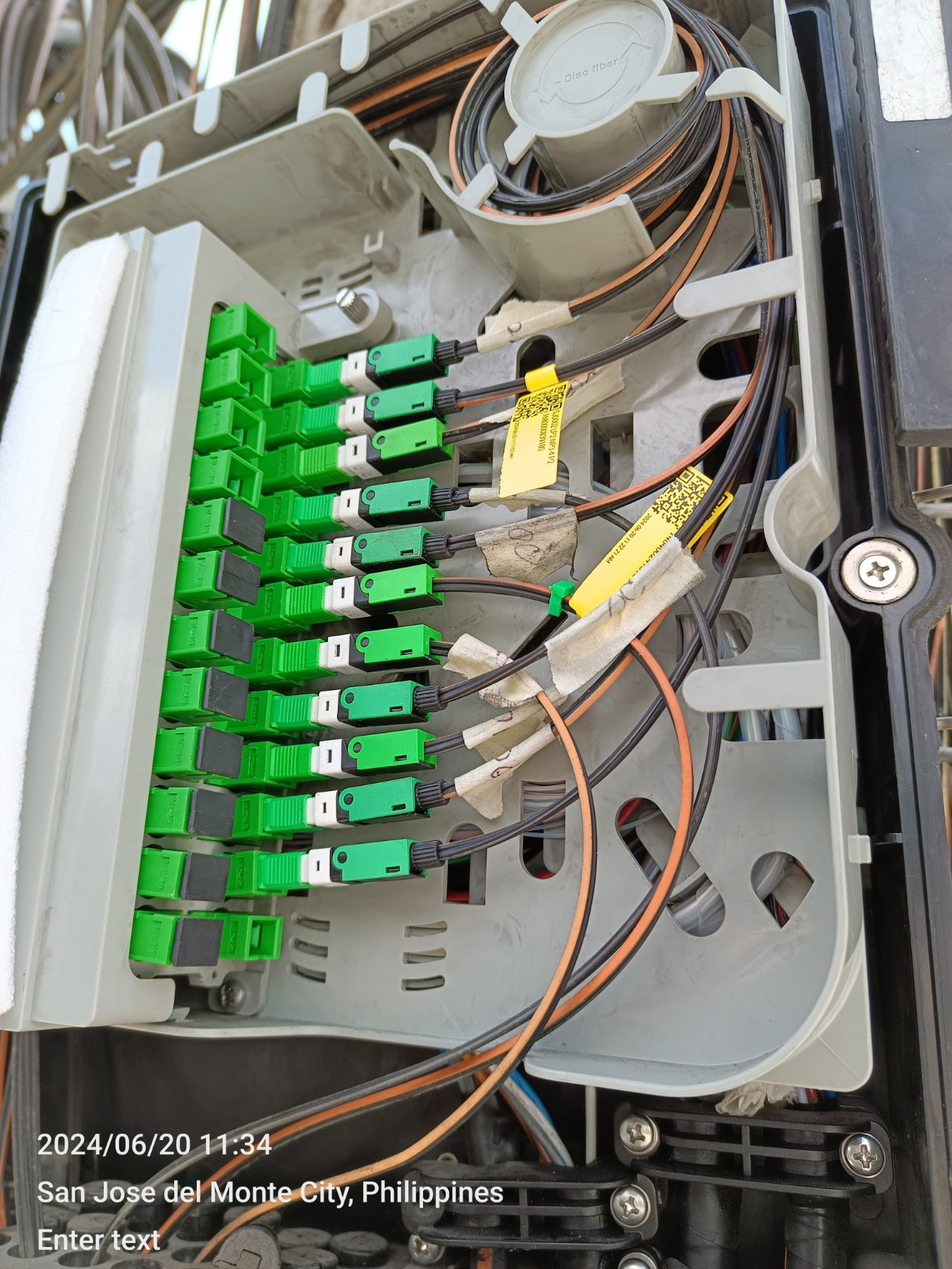no dust cap: (224, 452, 263, 506), (228, 401, 264, 456), (237, 351, 272, 406), (244, 305, 277, 360), (247, 917, 282, 962)
occupied: (307, 328, 460, 403), (285, 562, 447, 631), (302, 375, 462, 442), (300, 418, 452, 484), (271, 721, 442, 779), (276, 621, 447, 679), (266, 673, 437, 731), (265, 773, 436, 831), (262, 831, 433, 889), (291, 475, 458, 531), (289, 524, 455, 576)
vacant: (181, 850, 232, 904), (173, 918, 227, 967), (203, 666, 249, 722), (191, 787, 237, 841), (223, 497, 266, 554), (198, 725, 244, 778), (220, 550, 263, 606), (212, 609, 254, 666)
